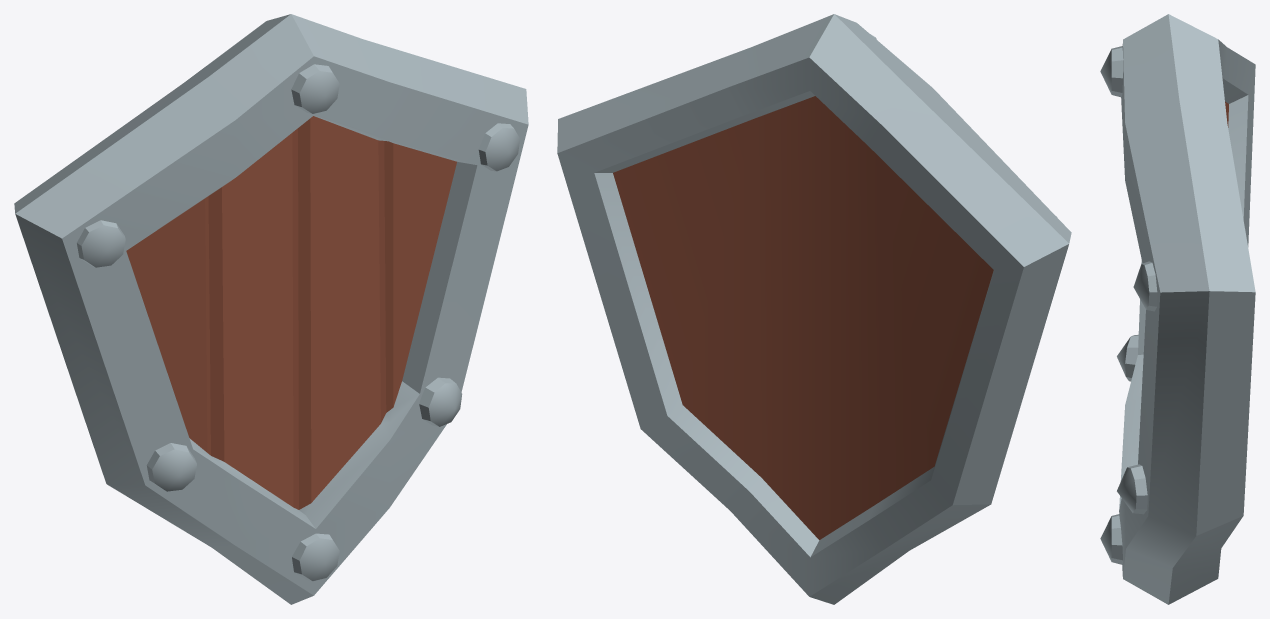
Rendered from shield_uncommon.glb.
3 renders of one model, left to right at view 1: azimuth 30°, elevation 25°; view 2: azimuth 150°, elevation 25°; view 3: azimuth 270°, elevation 25°, orthographic.
Parts seen in each view (by area): view 1: shield_uncommon; view 2: shield_uncommon; view 3: shield_uncommon.
Boxes of the visible parts, box(x1,y1,x2,y2) form: shield_uncommon: box(14, 14, 528, 604); shield_uncommon: box(557, 14, 1071, 604); shield_uncommon: box(1100, 14, 1255, 604).
Bounding box in the file's own units: 0.1324 × 0.1463 × 0.0348.
